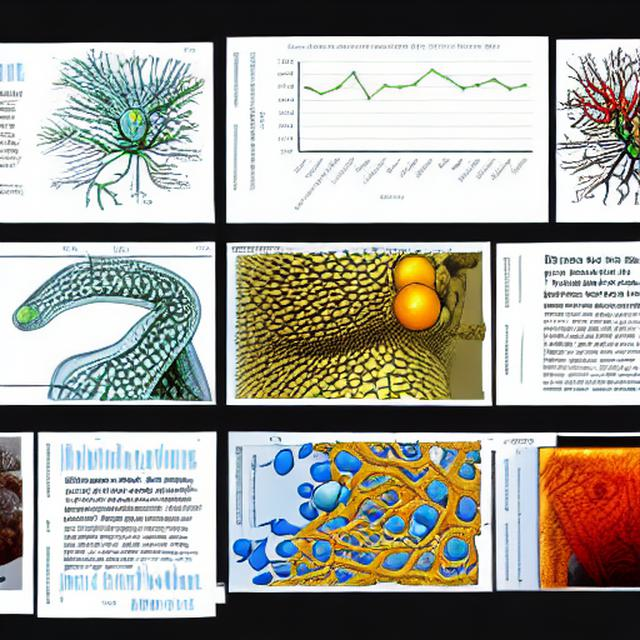Graph: (243, 37, 542, 213), (139, 559, 203, 593)
